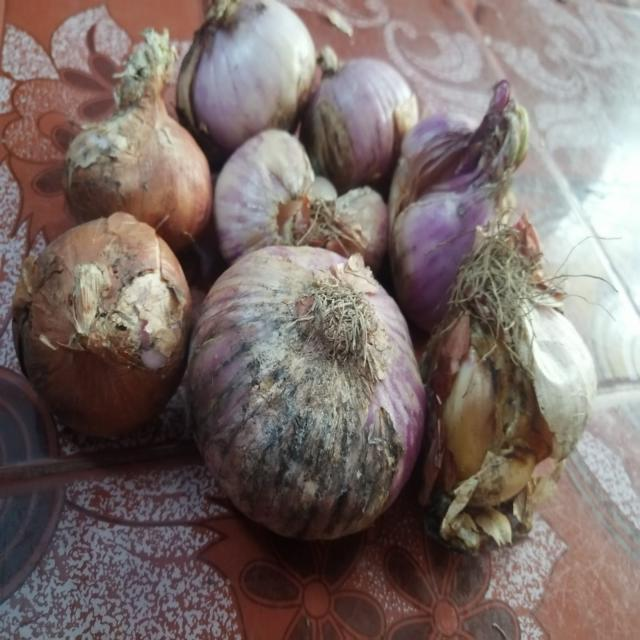rotten: (246, 374, 391, 506), (82, 248, 162, 339), (300, 152, 352, 212)
sprouting: (502, 104, 530, 168)
